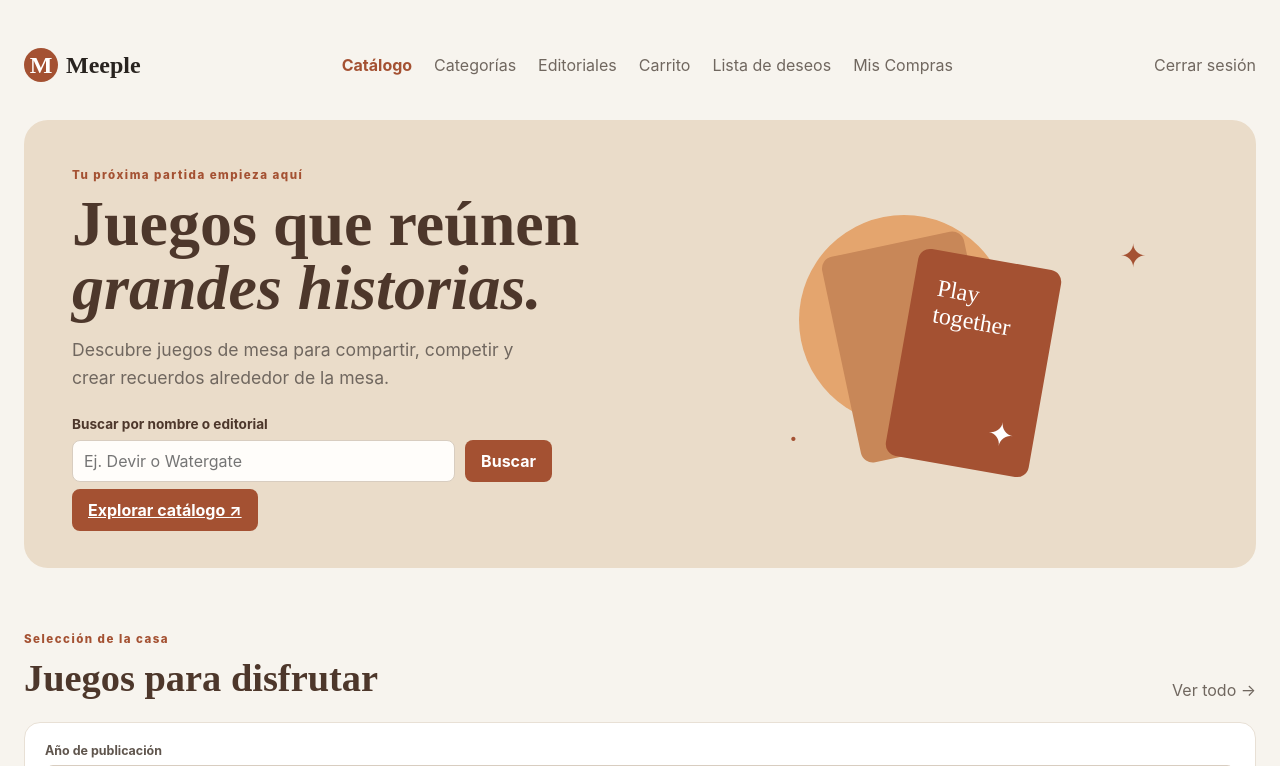
authentication screens › hides account links and removes the session on logout
Expected: the link "Crear cuenta" is not shown
Expected: the link "Iniciar sesión" is not shown
Click the button "Cerrar sesión" at (1205, 65), box [1154,55,1256,75]
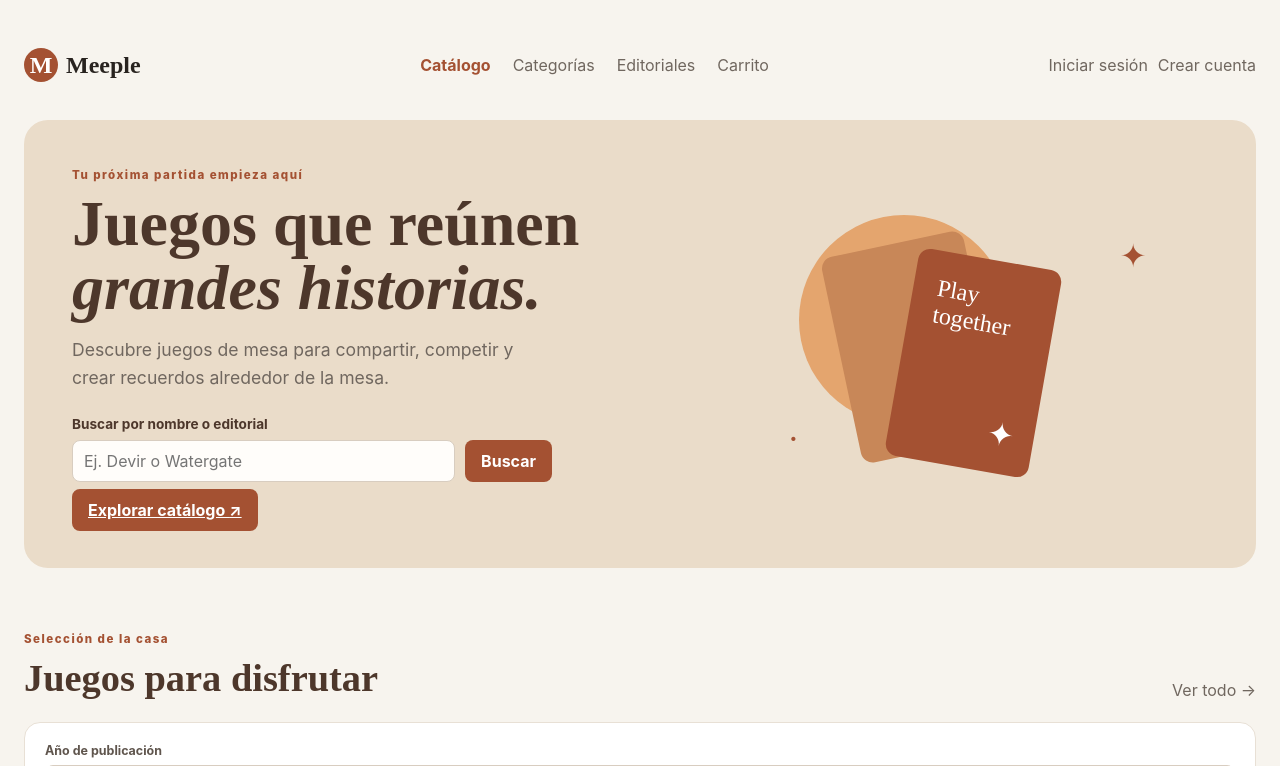
Expected: the link "Crear cuenta" is shown, [1158,55,1256,75]
Expected: the link "Iniciar sesión" is shown, [1049,55,1148,75]
